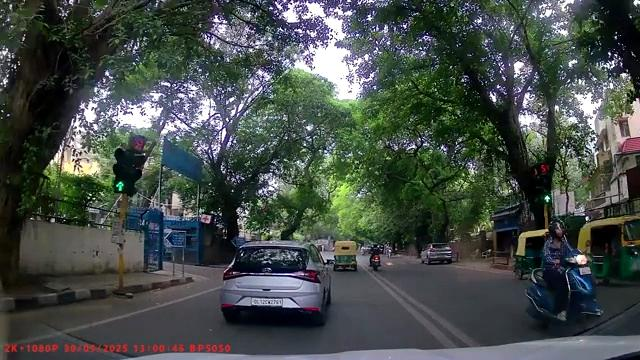motorcycle_with_helmet: (523, 217, 606, 335)
